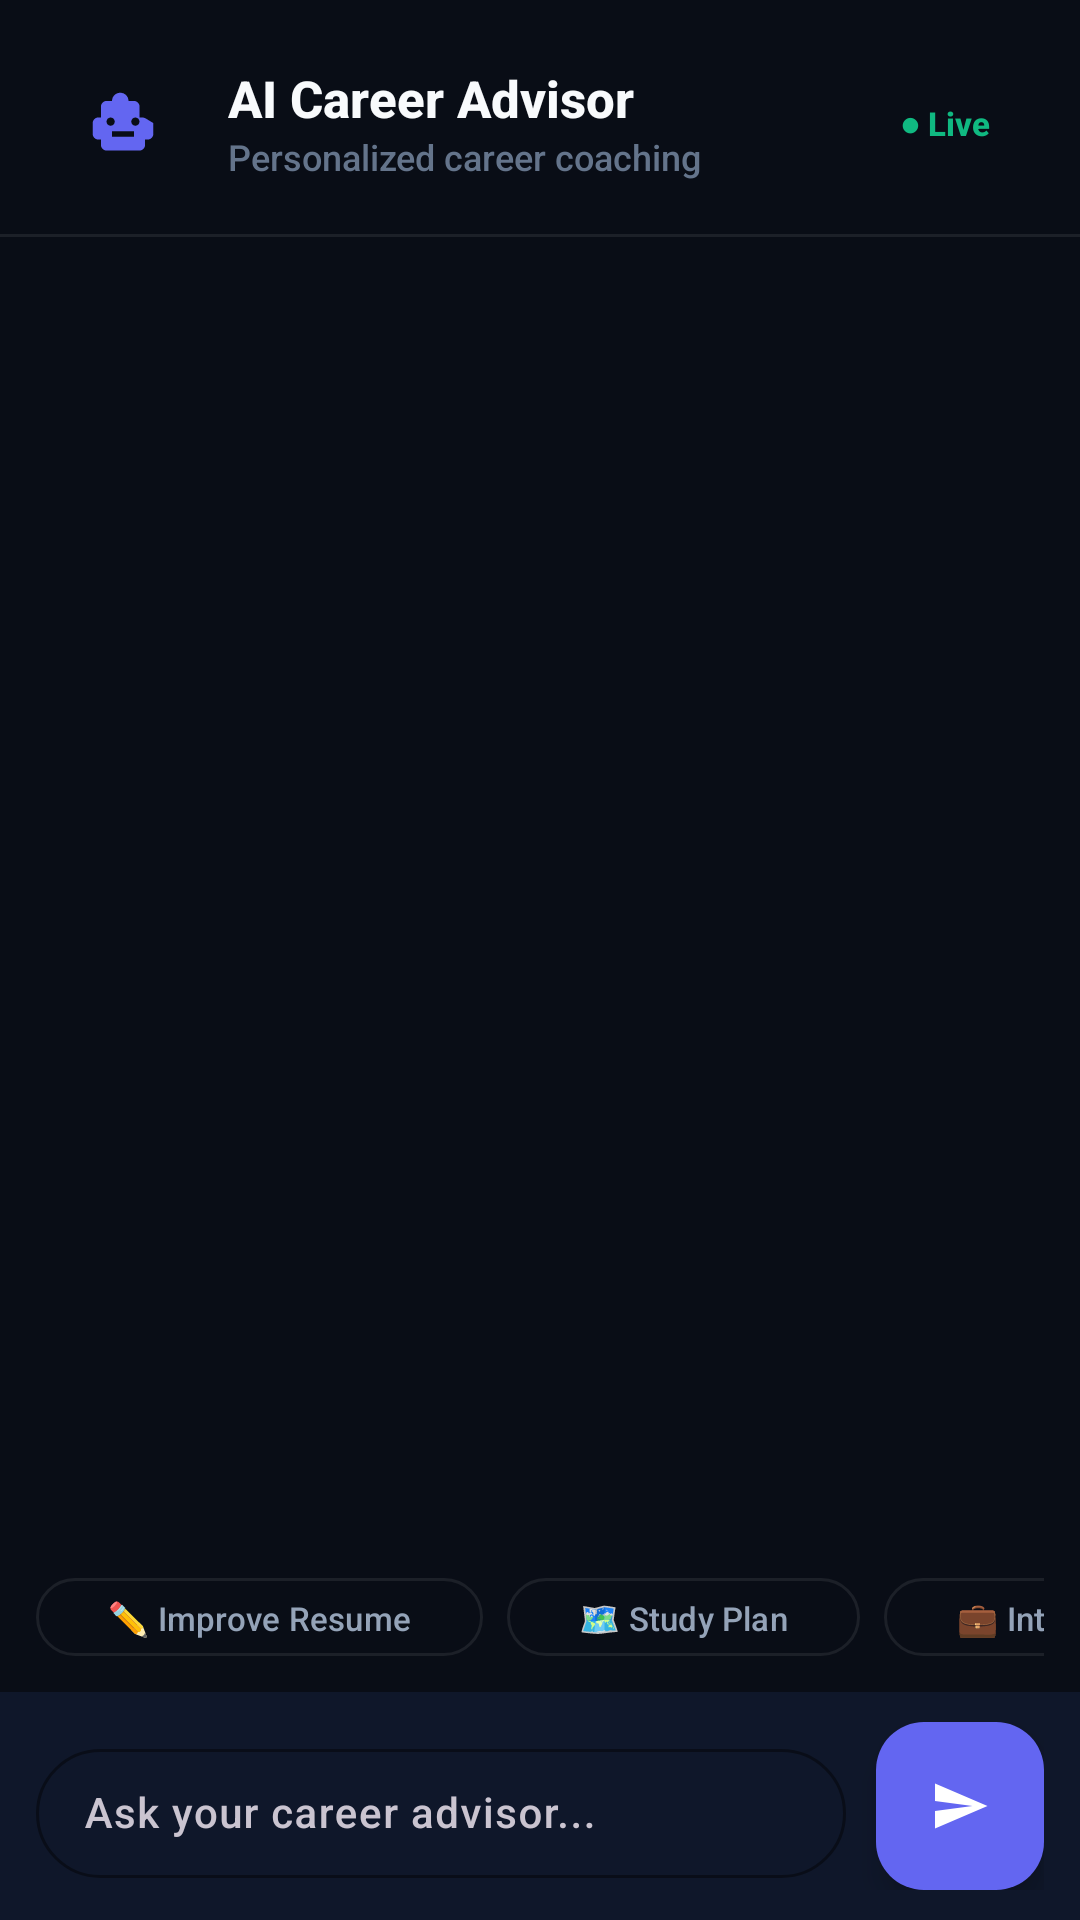

Icons on this 1080 × 1920 Android screen, each with the point to tap as (x=x, y=y):
robot: (x=123, y=121)
Send: (x=960, y=1806)
